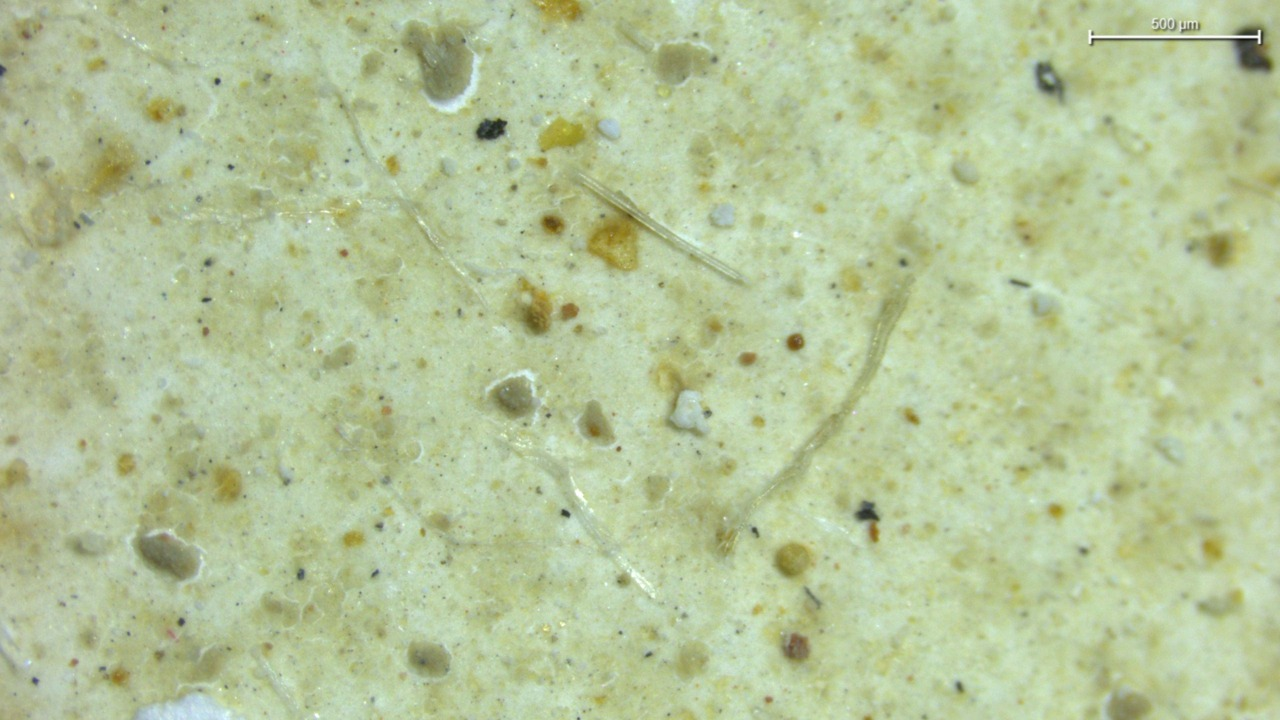microplastic_fragment: (669, 390, 709, 433), (710, 204, 735, 227), (597, 118, 621, 139)
